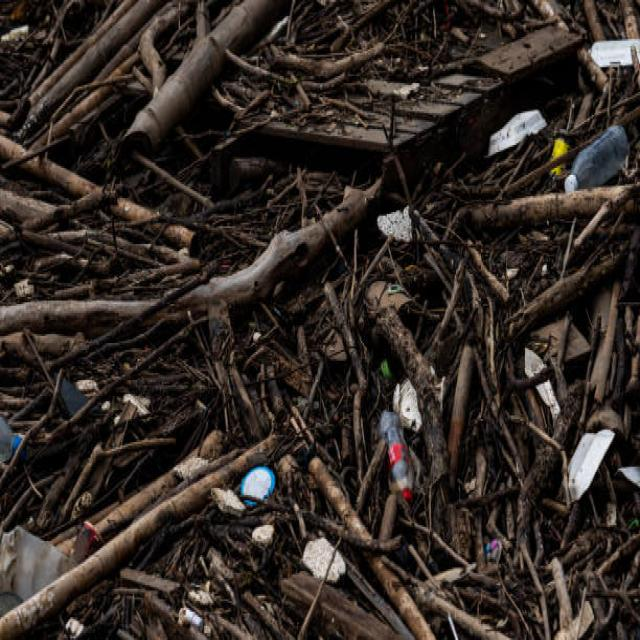plastic: (378, 412, 417, 502)
